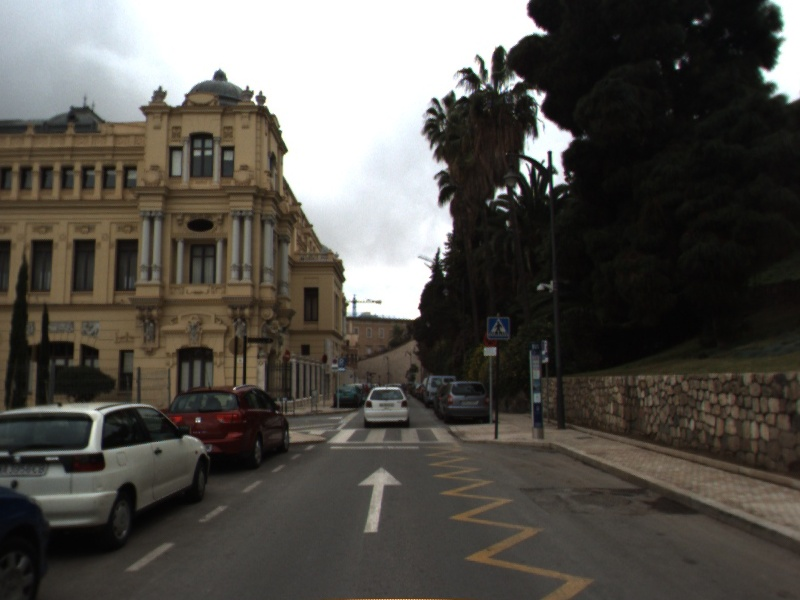STRAIGHT: (355, 464, 405, 534)
